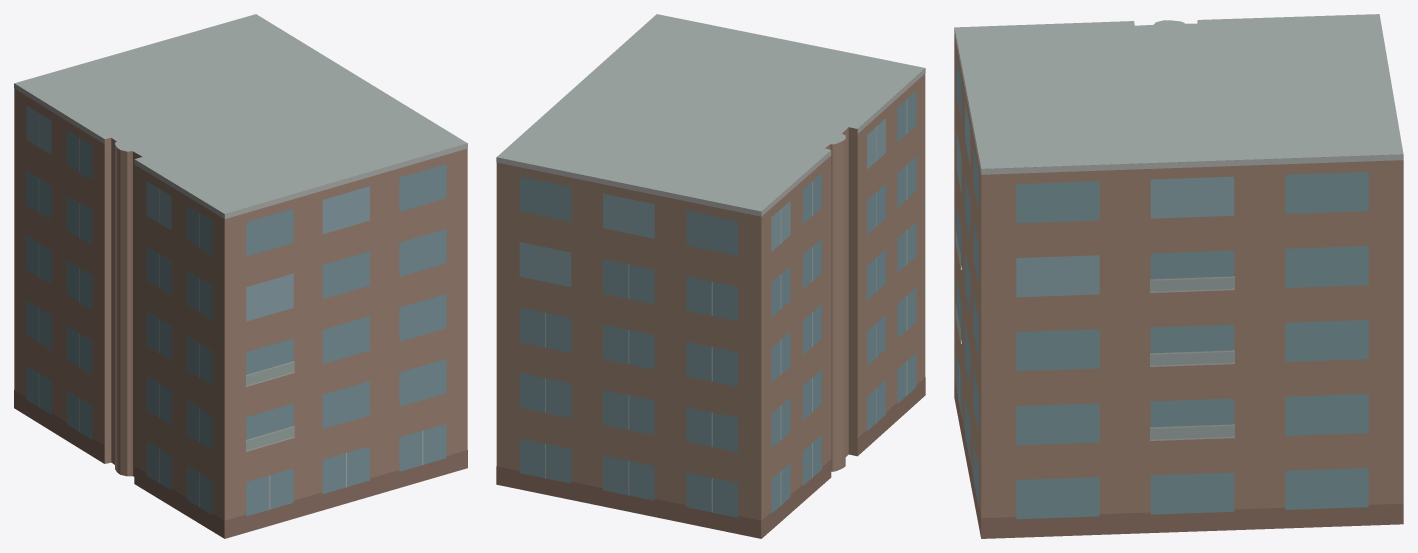
The model's file is survey-upis-32731937.glb.
3 views of the same model, side by side, from view 1: azimuth 30°, elevation 25°; view 2: azimuth 150°, elevation 25°; view 3: azimuth 270°, elevation 25° (orthographic). The views are drawn at different scales.
Parts seen in each view (by area): view 1: survey-upis-32731937.tmp; view 2: survey-upis-32731937.tmp; view 3: survey-upis-32731937.tmp.
Boxes of the visible parts, x1=… form: survey-upis-32731937.tmp: x1=14, y1=14, x2=467, y2=538; survey-upis-32731937.tmp: x1=496, y1=14, x2=925, y2=538; survey-upis-32731937.tmp: x1=954, y1=14, x2=1403, y2=538.
Bounding box in the file's own units: 13.84 × 15.4 × 16.96.
